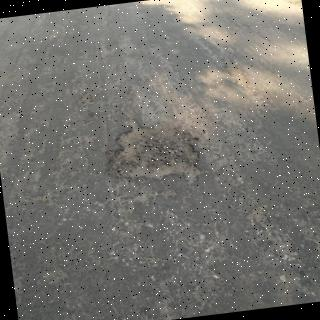pothole: (104, 118, 203, 187)
